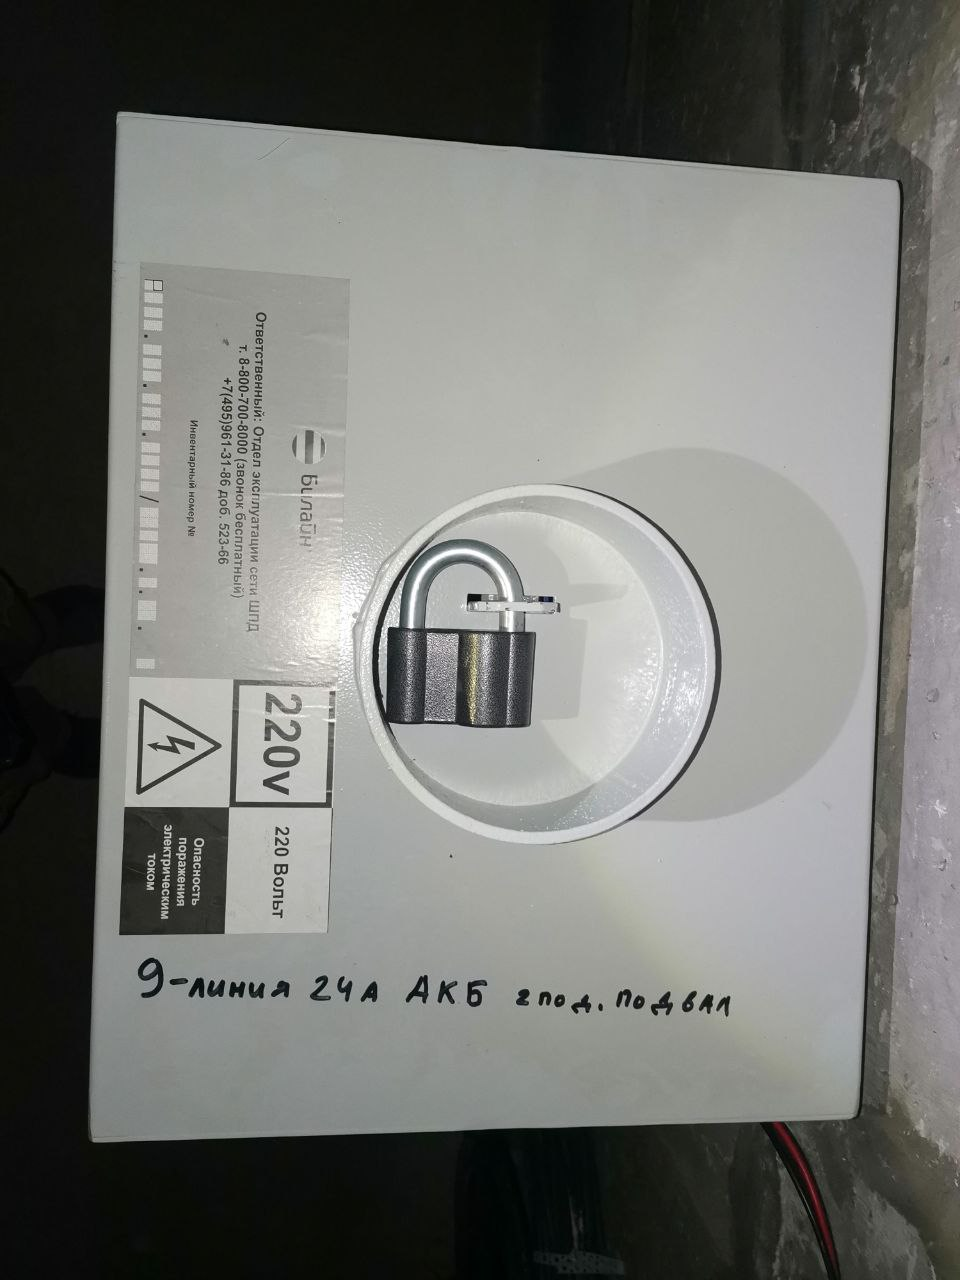shta-3: (80, 105, 909, 1146)
